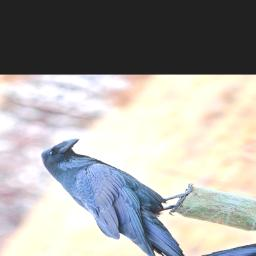Crow: (0, 132, 254, 256)
